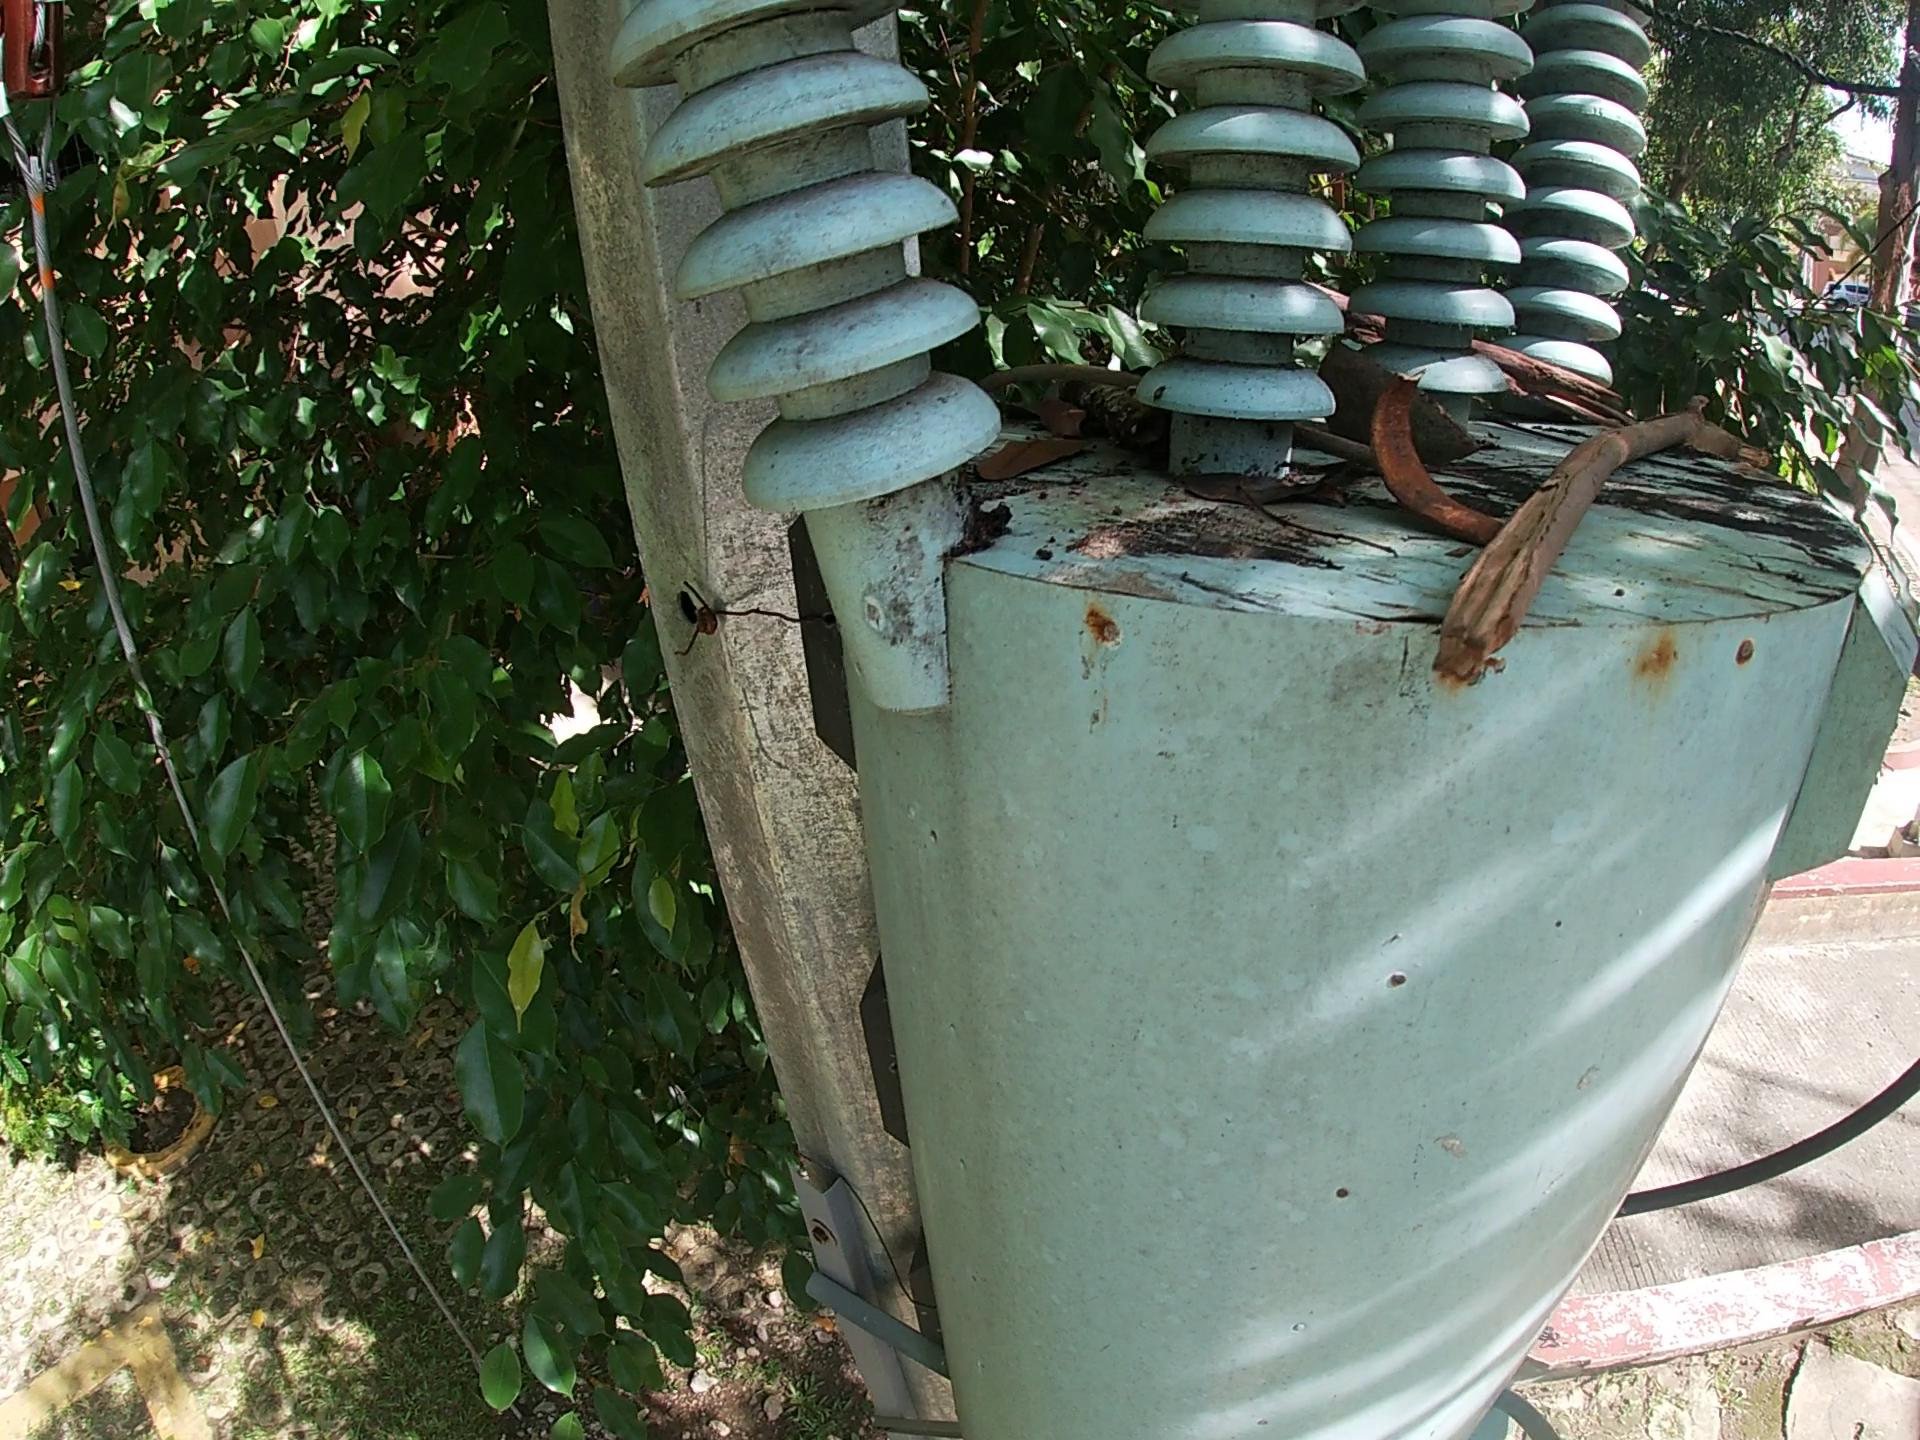leaf: (971, 417, 1098, 479), (1176, 469, 1256, 508)
mahogany fruit: (1318, 355, 1489, 473), (1371, 374, 1491, 529)
tree branch: (1415, 416, 1764, 678), (1176, 486, 1395, 564), (1476, 342, 1631, 419), (1031, 389, 1167, 448), (1302, 290, 1401, 345), (986, 362, 1149, 389), (1268, 466, 1367, 501), (1297, 424, 1380, 464)
